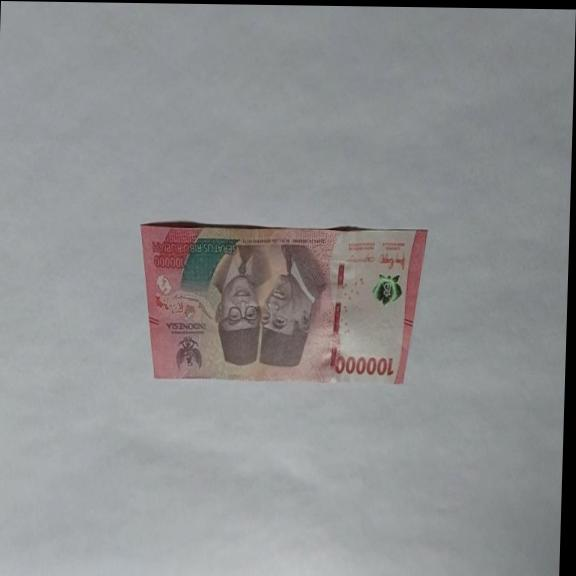Kertas: (135, 221, 428, 387)
